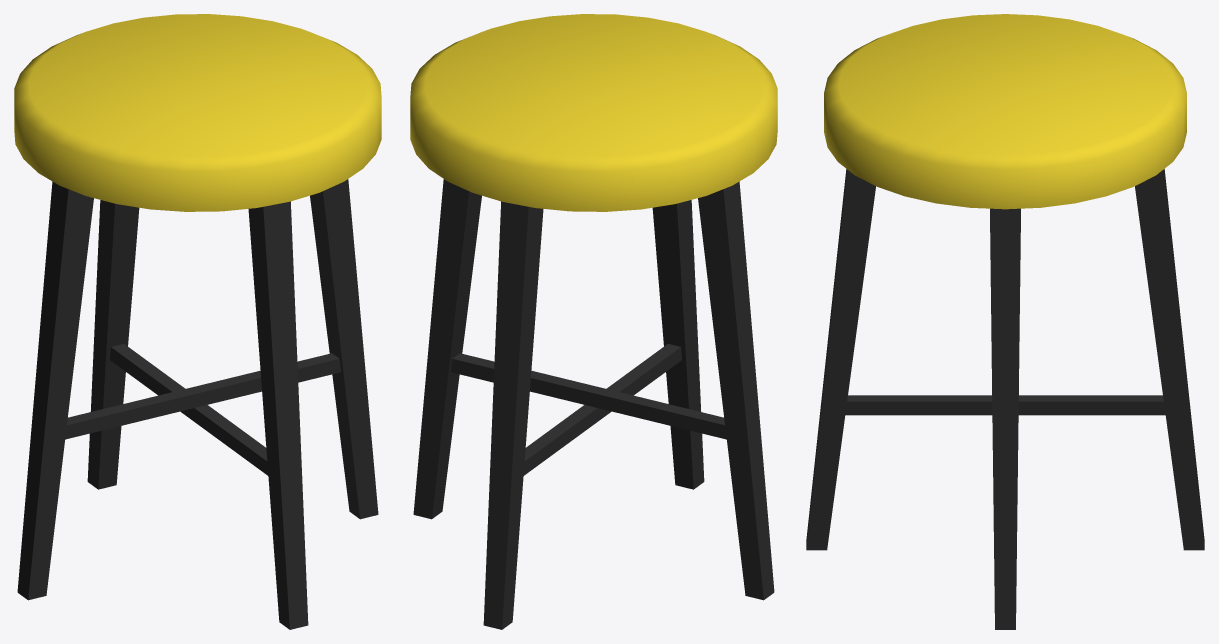
File: stool.fbx
3 views of the same model, side by side, from view 1: azimuth 30°, elevation 25°; view 2: azimuth 150°, elevation 25°; view 3: azimuth 270°, elevation 25° (orthographic).
Parts seen in each view (by area): view 1: Stool; view 2: Stool; view 3: Stool.
Part boxes in pixels (<box>): Stool: <box>14,14,381,629</box>; Stool: <box>410,14,777,629</box>; Stool: <box>806,14,1204,629</box>.
Bounding box in the file's own units: 1233 × 1233 × 1575.
